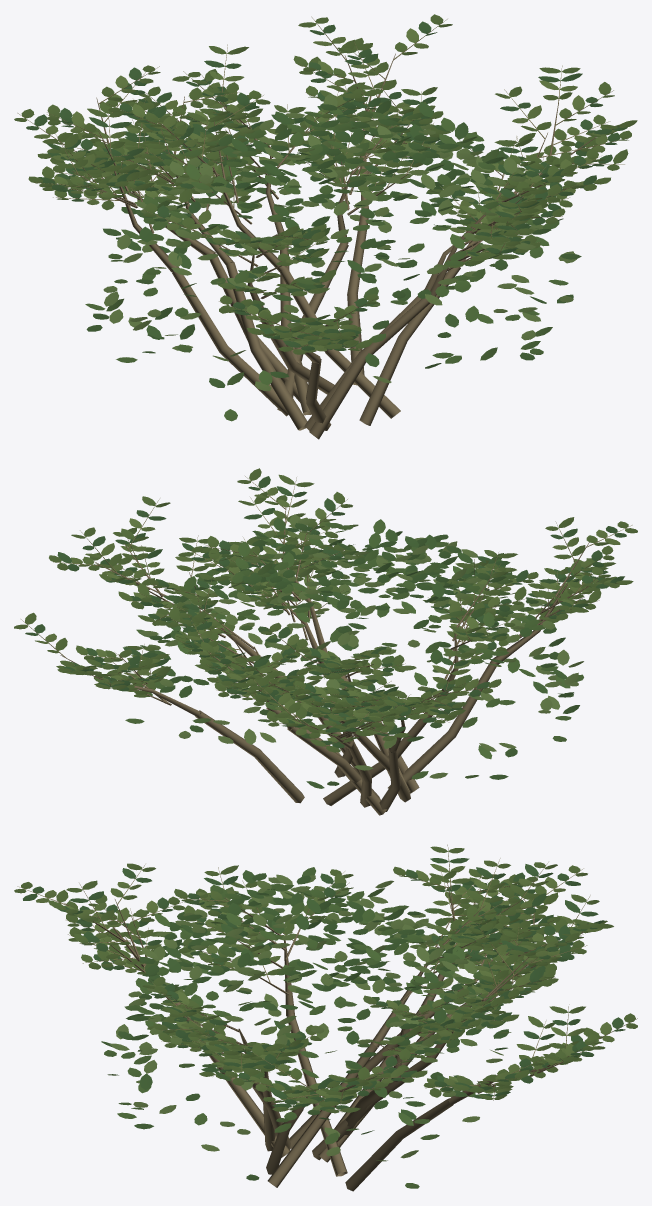
The model's file is LentisqueRampant_3_High.fbx.
3 renders of one model, top to bottom at view 1: azimuth 30°, elevation 25°; view 2: azimuth 150°, elevation 25°; view 3: azimuth 270°, elevation 25°, orthographic. The views are drawn at different scales.
Visible parts, largest first — view 1: LentisqueRampant_3_High; view 2: LentisqueRampant_3_High; view 3: LentisqueRampant_3_High.
Boxes of the visible parts, <box> form: LentisqueRampant_3_High: <box>14,14,637,439</box>; LentisqueRampant_3_High: <box>14,468,637,815</box>; LentisqueRampant_3_High: <box>14,844,637,1191</box>.
Bounding box in the file's own units: 214 × 110 × 233.
